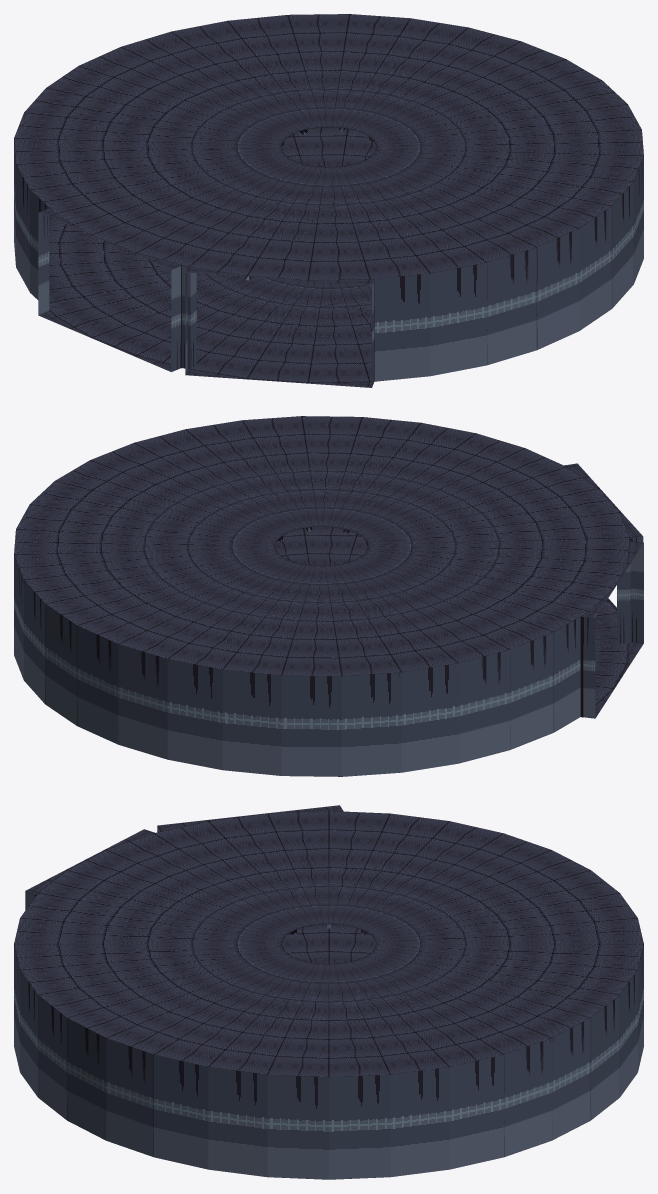
Rendered from SUB-02_Cruce_de_nave_P.gltf.
The picture shows the model from 3 angles, top to bottom: view 1: azimuth 30°, elevation 25°; view 2: azimuth 150°, elevation 25°; view 3: azimuth 270°, elevation 25°; orthographic projection. The views are drawn at different scales.
Visible parts, largest first — view 1: SUB-02_Cruce_de_nave_P-col; view 2: SUB-02_Cruce_de_nave_P-col; view 3: SUB-02_Cruce_de_nave_P-col.
Part boxes in pixels (box(x1,y1,x2,y2)): SUB-02_Cruce_de_nave_P-col: box(14, 14, 643, 387); SUB-02_Cruce_de_nave_P-col: box(14, 416, 643, 776); SUB-02_Cruce_de_nave_P-col: box(14, 805, 643, 1179).
Size of the model in its own units: 34.12 by 6 by 33.4.
2 materials, 2 textured.
